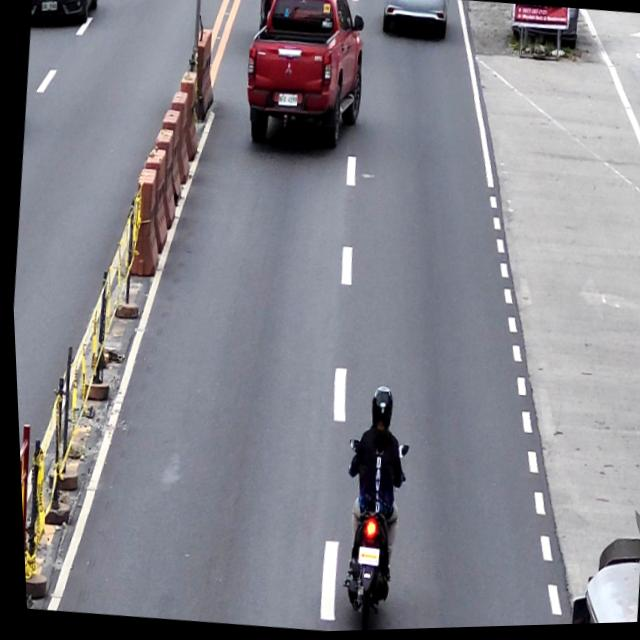Car: (239, 0, 374, 158)
License-Plate: (274, 90, 300, 110)
Motorcycle: (327, 381, 409, 633)
